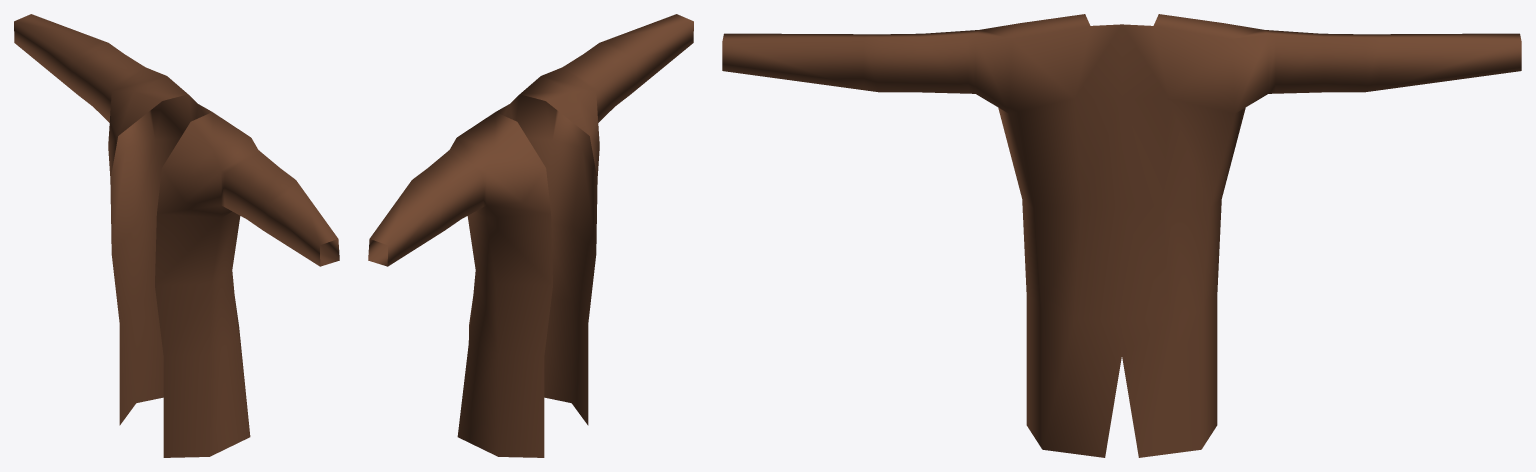
File: coat.fbx
3 views of the same model, side by side, from view 1: azimuth 30°, elevation 25°; view 2: azimuth 150°, elevation 25°; view 3: azimuth 270°, elevation 25° (orthographic). The views are drawn at different scales.
Visible parts, largest first — view 1: Icosphere.002; view 2: Icosphere.002; view 3: Icosphere.002.
Part boxes in pixels (x1=…): Icosphere.002: x1=14, y1=14, x2=339, y2=457; Icosphere.002: x1=368, y1=14, x2=693, y2=457; Icosphere.002: x1=722, y1=14, x2=1521, y2=457.
Bounding box in the file's own units: 143 × 447 × 767.
